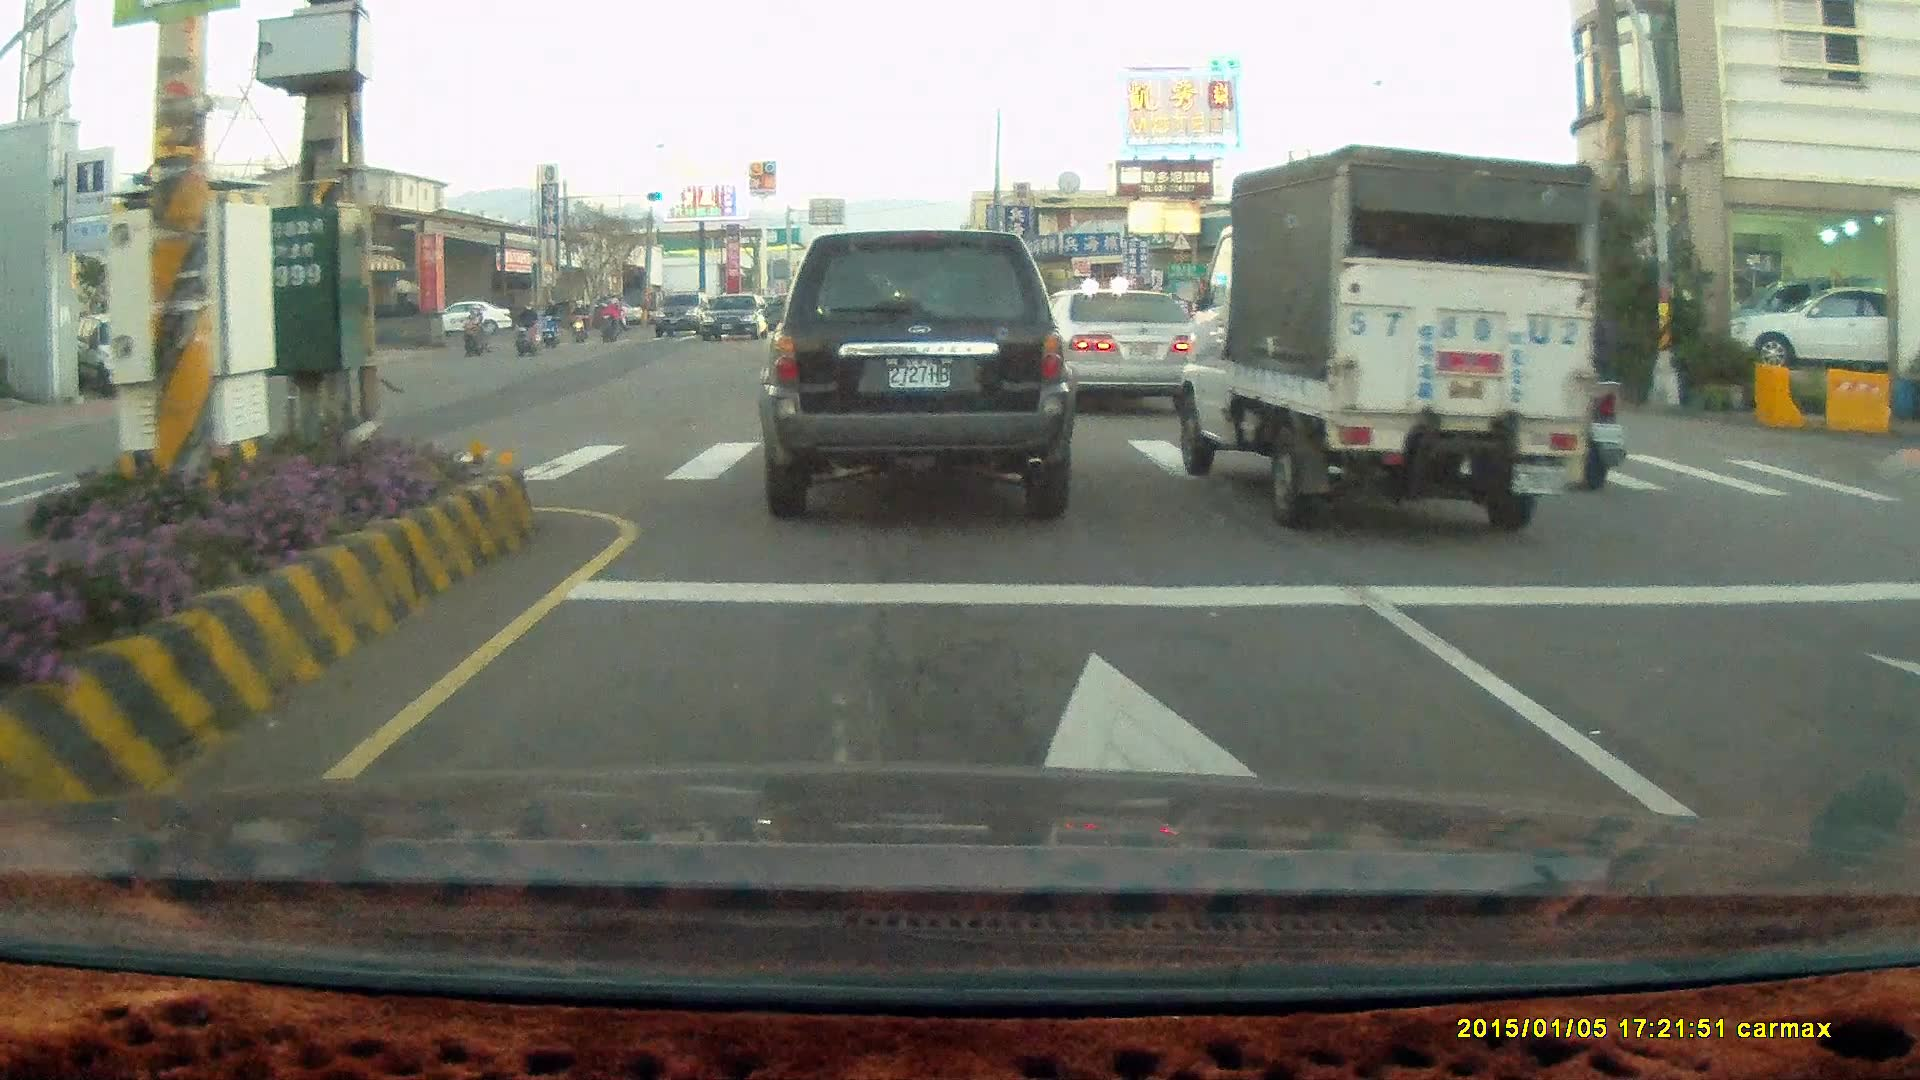rider: (457, 302, 494, 359), (511, 305, 540, 359), (538, 295, 562, 350), (568, 295, 591, 339), (601, 297, 621, 339)
vehicle: (1179, 143, 1599, 535), (756, 228, 1078, 524), (1023, 287, 1203, 411), (1050, 289, 1208, 416), (1722, 282, 1920, 376), (1736, 286, 1889, 375), (62, 314, 169, 391), (699, 294, 770, 346), (442, 301, 514, 338)
